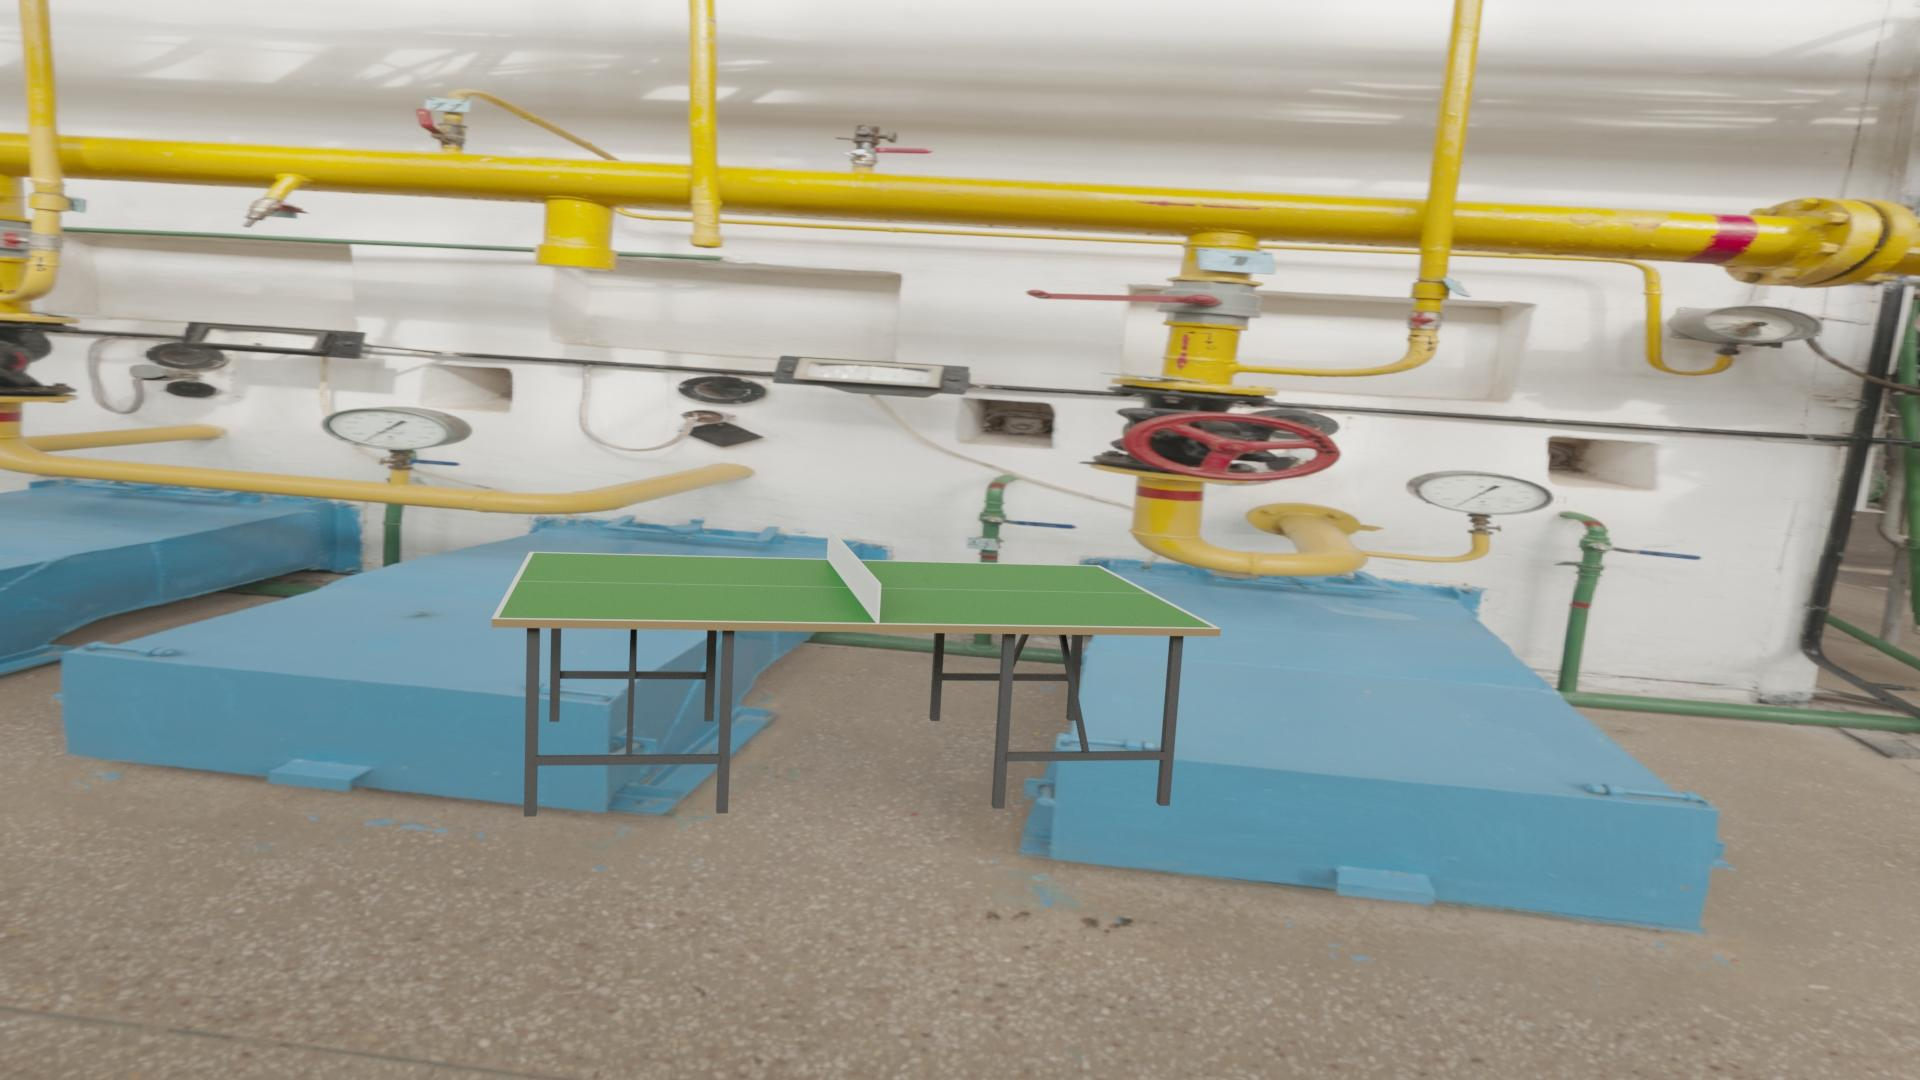table: (498, 553, 1215, 628)
